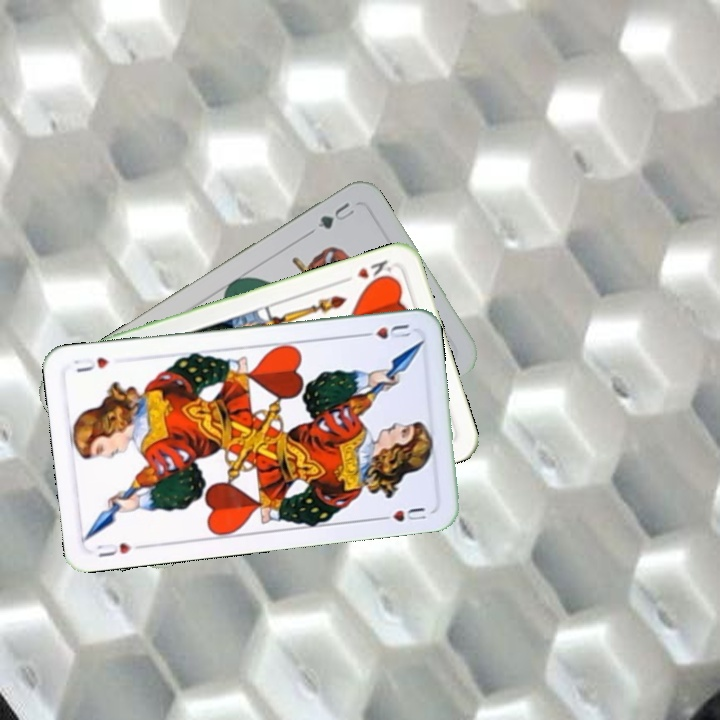GU: (313, 198, 357, 232)
HK: (338, 256, 395, 288)
HU: (356, 320, 413, 342), (93, 538, 135, 560)
